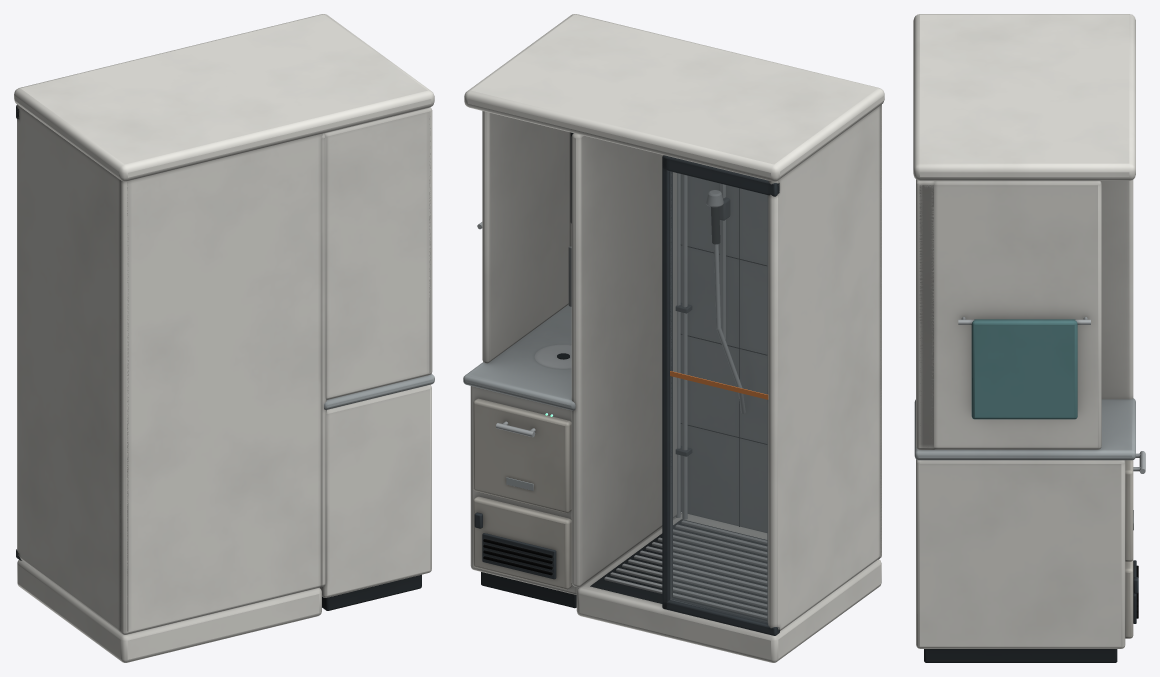
The model's file is hygiene_shower.glb.
3 renders of one model, left to right at view 1: azimuth 30°, elevation 25°; view 2: azimuth 150°, elevation 25°; view 3: azimuth 270°, elevation 25°, orthographic.
Parts seen in each view (by area): view 1: stall_back_shell_white, stall_side_shell_white, stall_roof_shell_white, column_back_shell_white, column_body_shell_white, tray_shell_white, column_divider_shell_white, column_plinth_deep_graphite, column_counter_panel_cool; view 2: stall_side_shell_white, stall_screen_frosted_glass, column_divider_shell_white, stall_roof_shell_white, stall_liner_panel_cool, column_side_shell_white, tray_shell_white, greywater_filter_drawer_panel_warm, screen_frame_frame_graphite, drain_grate_satin_alloy, column_counter_panel_cool, lower_supply_hatch_panel_warm (+12 smaller); view 3: column_body_shell_white, stall_roof_shell_white, column_side_shell_white, towel_fabric_teal, column_divider_shell_white, column_back_shell_white, column_counter_panel_cool, column_plinth_deep_graphite, greywater_filter_drawer_panel_warm, lower_supply_hatch_panel_warm.
Part boxes in pixels (bbox=[...]): stall_back_shell_white: bbox=[120, 134, 322, 634]; stall_side_shell_white: bbox=[17, 104, 128, 631]; stall_roof_shell_white: bbox=[14, 14, 434, 181]; column_back_shell_white: bbox=[324, 107, 432, 399]; column_body_shell_white: bbox=[320, 384, 431, 597]; tray_shell_white: bbox=[17, 560, 321, 662]; column_divider_shell_white: bbox=[321, 133, 326, 586]; column_plinth_deep_graphite: bbox=[322, 574, 421, 610]; column_counter_panel_cool: bbox=[324, 374, 434, 409]; stall_side_shell_white: bbox=[768, 105, 881, 630]; stall_screen_frosted_glass: bbox=[670, 172, 767, 622]; column_divider_shell_white: bbox=[571, 133, 676, 586]; stall_roof_shell_white: bbox=[464, 14, 884, 181]; stall_liner_panel_cool: bbox=[680, 174, 767, 532]; column_side_shell_white: bbox=[482, 111, 569, 363]; tray_shell_white: bbox=[576, 513, 881, 662]; greywater_filter_drawer_panel_warm: bbox=[473, 398, 571, 513]; screen_frame_frame_graphite: bbox=[662, 155, 779, 635]; drain_grate_satin_alloy: bbox=[604, 520, 767, 619]; column_counter_panel_cool: bbox=[463, 304, 575, 410]; lower_supply_hatch_panel_warm: bbox=[473, 496, 571, 589]; column_body_shell_white: bbox=[916, 459, 1125, 648]; stall_roof_shell_white: bbox=[913, 14, 1135, 180]; column_side_shell_white: bbox=[919, 181, 1101, 449]; towel_fabric_teal: bbox=[971, 319, 1077, 419]; column_divider_shell_white: bbox=[1101, 180, 1133, 399]; column_back_shell_white: bbox=[916, 179, 934, 449]; column_counter_panel_cool: bbox=[914, 398, 1135, 460]; column_plinth_deep_graphite: bbox=[924, 649, 1117, 662]; greywater_filter_drawer_panel_warm: bbox=[1125, 460, 1133, 561]; lower_supply_hatch_panel_warm: bbox=[1125, 559, 1133, 638].
Bounding box in the file's own units: 1.42 × 2.09 × 0.876.
Materials: 6 (1 with a texture image).
